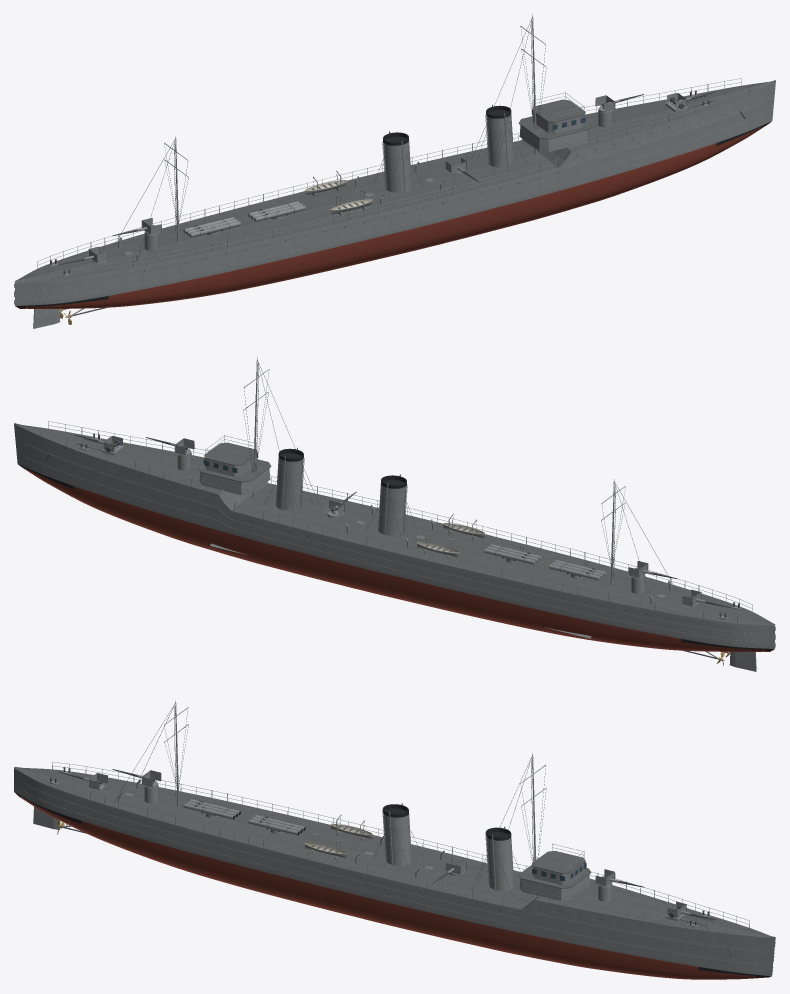
The model's file is scott_shakespeare.glb.
The picture shows the model from 3 angles, top to bottom: view 1: azimuth 30°, elevation 25°; view 2: azimuth 150°, elevation 25°; view 3: azimuth 330°, elevation 25°; orthographic projection.
Parts seen in each view (by area): view 1: Scott / Shakespeare flotilla leaders; view 2: Scott / Shakespeare flotilla leaders; view 3: Scott / Shakespeare flotilla leaders.
Boxes of the visible parts, bbox=[...] form: Scott / Shakespeare flotilla leaders: bbox=[14, 14, 775, 328]; Scott / Shakespeare flotilla leaders: bbox=[14, 357, 775, 671]; Scott / Shakespeare flotilla leaders: bbox=[14, 700, 775, 979].
Size of the model in its own units: 101 by 24.81 by 10.03.
Materials: 8 (2 with a texture image).
